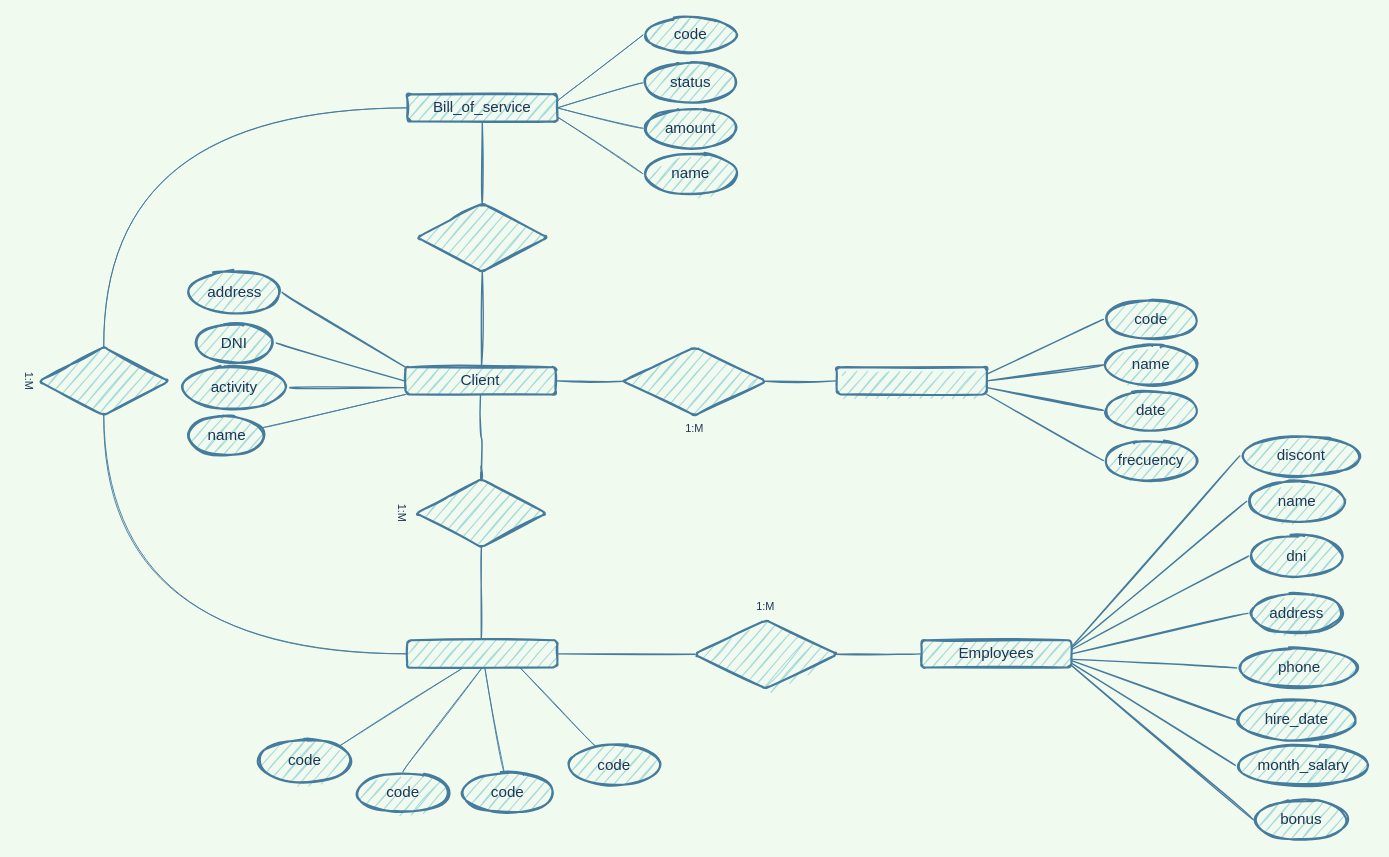
Some shapes in this 1389 by 857 pixel diagram are drawn without their labels. The shapes that lost their labels are listed below. From the top down, each one's centre as x and y in pixels, then its label:
At (x=482, y=237): "save".
At (x=103, y=381): "Emit".
At (x=694, y=381): "hire".
At (x=911, y=380): "Services".
At (x=481, y=513): "offer".
At (x=482, y=653): "company".
At (x=765, y=654): "work".
